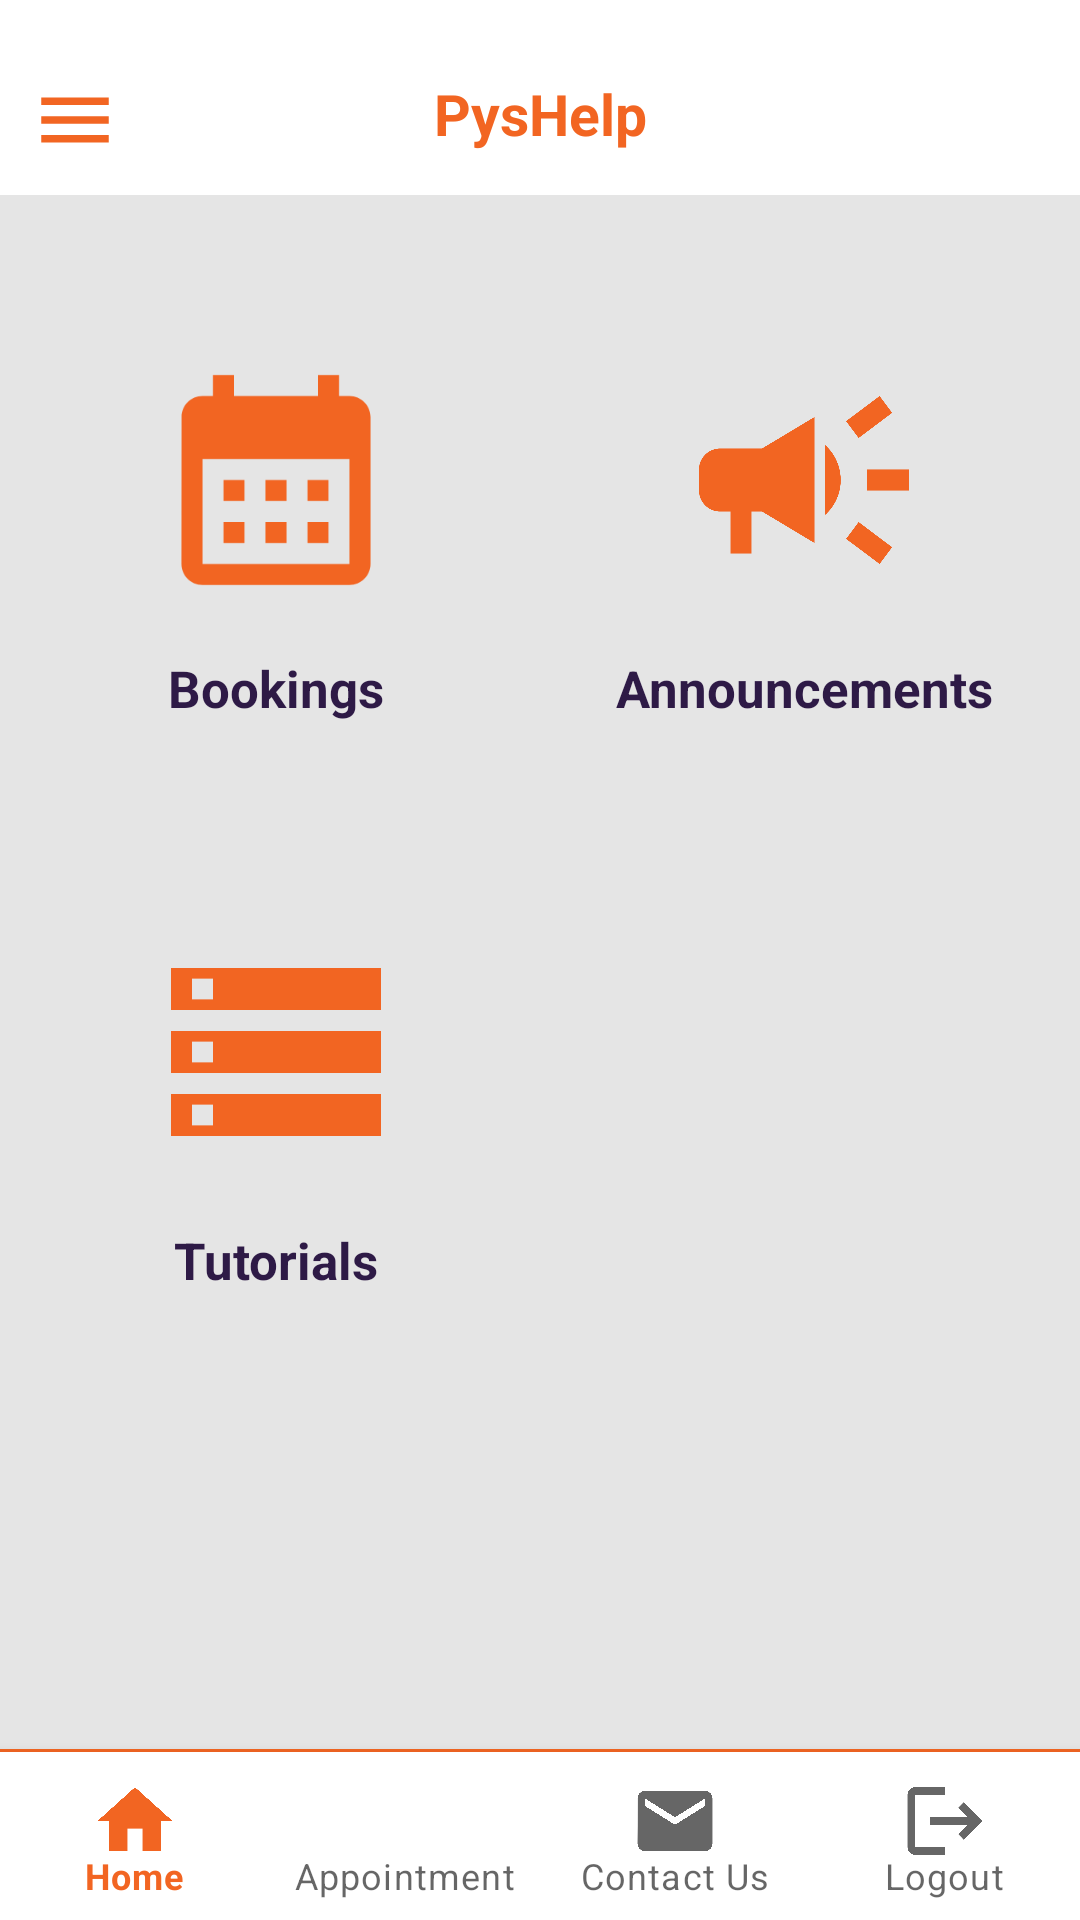

Screen size 1080 x 1920. Icon name, then its box in pixels as [x1,y1,x2,y2]:
calendar month: [181,375,371,585]
campaign: [699,396,909,564]
menu: [41,97,109,143]
storage: [171,968,381,1136]
